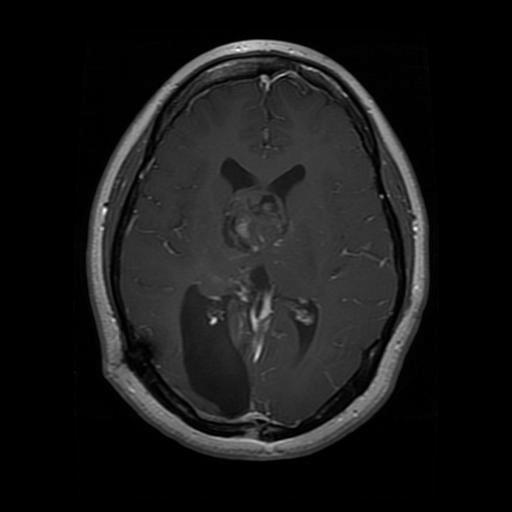Tumour-Glioma: (216, 189, 310, 265)
